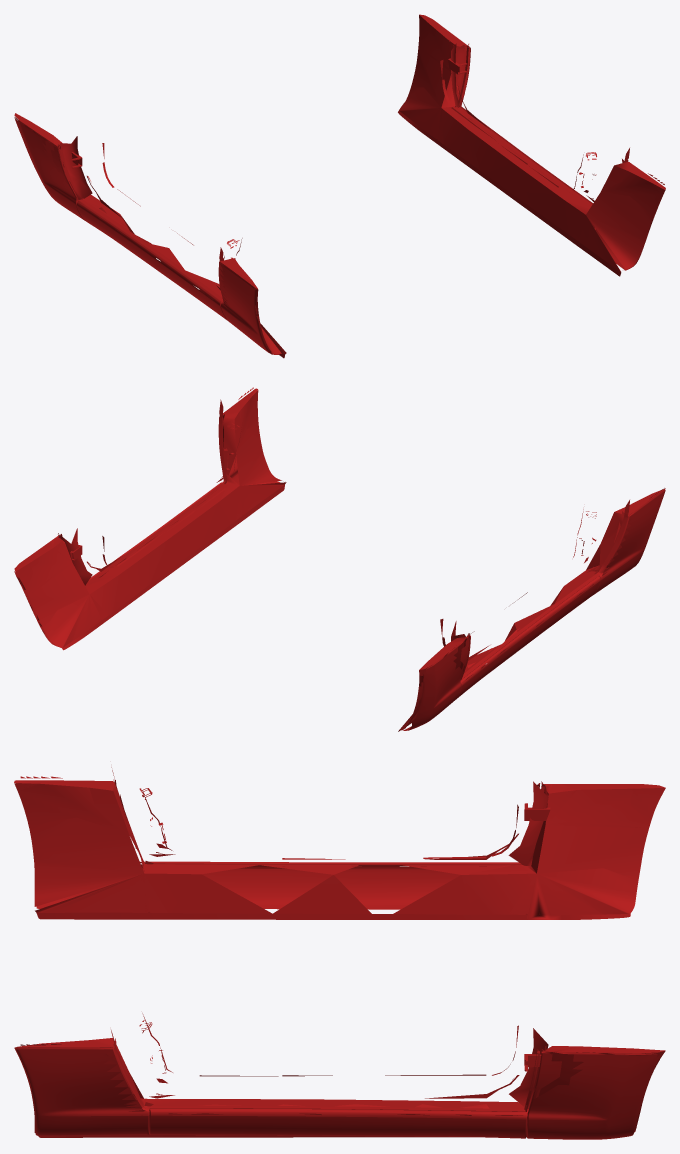
File: stock.glb
3 views of the same model, one above another, from view 1: azimuth 30°, elevation 25°; view 2: azimuth 150°, elevation 25°; view 3: azimuth 270°, elevation 25° (orthographic). The views are drawn at different scales.
Visible parts, largest first — view 1: Miata_Stock_skirts; view 2: Miata_Stock_skirts; view 3: Miata_Stock_skirts.
Part boxes in pixels (left/top/right/bottom): Miata_Stock_skirts: left=14, top=14, right=665, bottom=358; Miata_Stock_skirts: left=14, top=387, right=665, bottom=731; Miata_Stock_skirts: left=14, top=767, right=665, bottom=1139.
Size of the model in its own units: 67.99 by 15.89 by 69.43.
